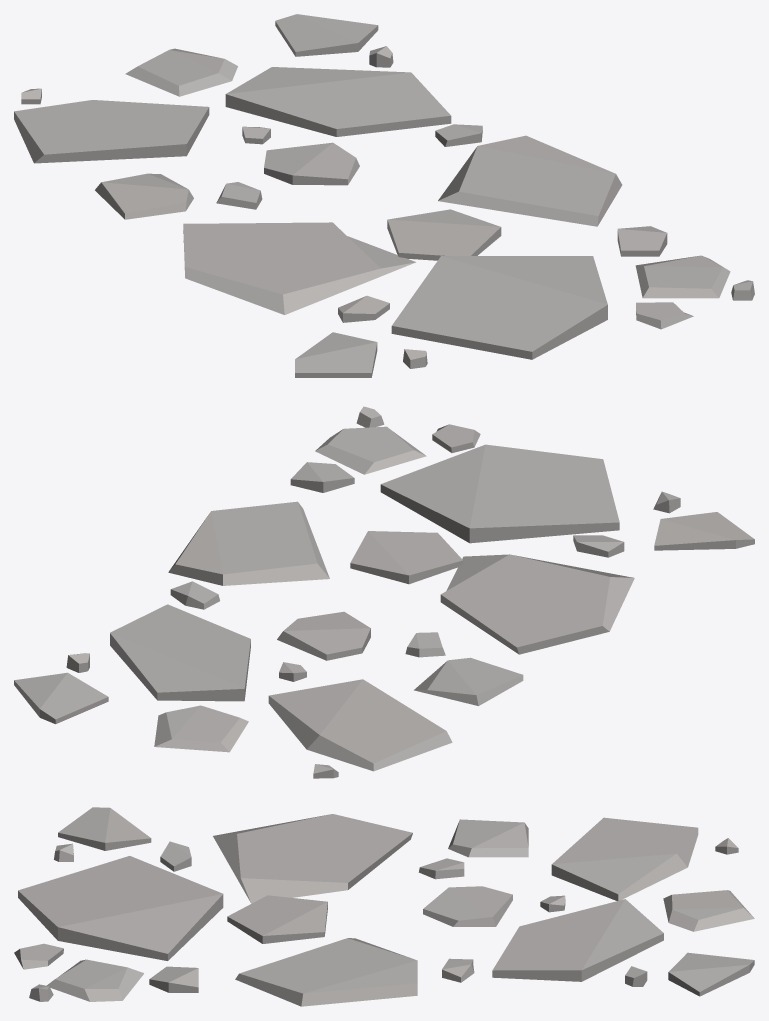
Rendered from Straight Stone Pathway.fbx.
3 renders of one model, top to bottom at view 1: azimuth 30°, elevation 25°; view 2: azimuth 150°, elevation 25°; view 3: azimuth 270°, elevation 25°, orthographic. The views are drawn at different scales.
Parts seen in each view (by area): view 1: straigth path; view 2: straigth path; view 3: straigth path.
Boxes of the visible parts, x1,y1,x2,y2 form: straigth path: [14, 14, 754, 377]; straigth path: [14, 406, 754, 778]; straigth path: [14, 807, 754, 1006].
Bounding box in the file's own units: 468 × 15.87 × 750.
